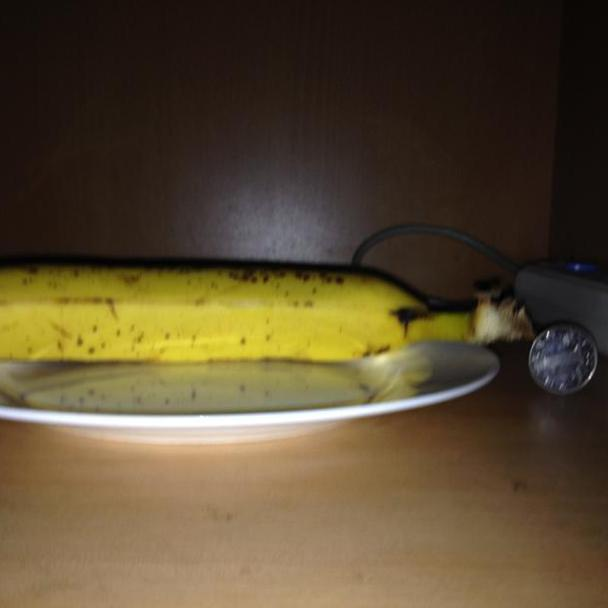banana: (4, 253, 530, 386)
